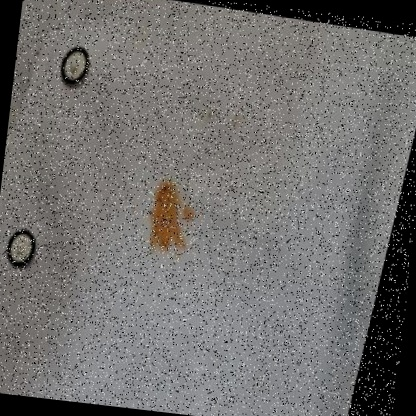kimchi: (136, 170, 215, 261)
